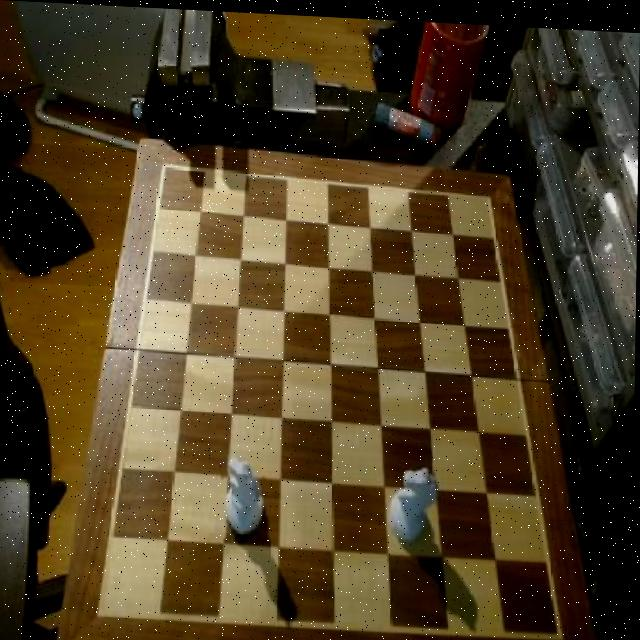white-king: (220, 450, 267, 538), (388, 459, 438, 541)
